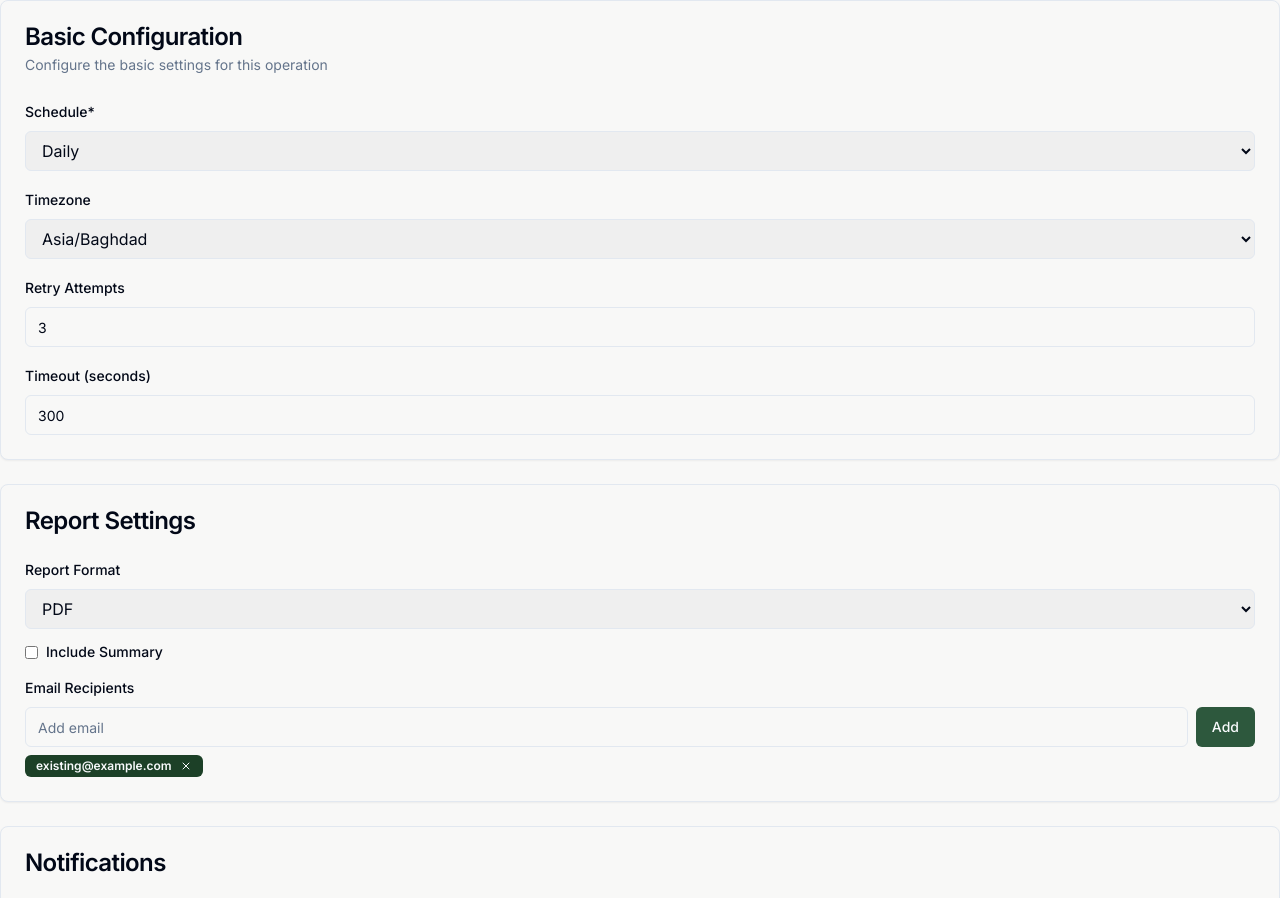
Test: OperationConfiguration › User Interactions › adds and removes email recipients
The width and height of the screenshot is (1280, 898).
Note: Add new email
Type "new@example.com" into the field labelled "Add email" at (606, 727), box [25,707,1188,747]
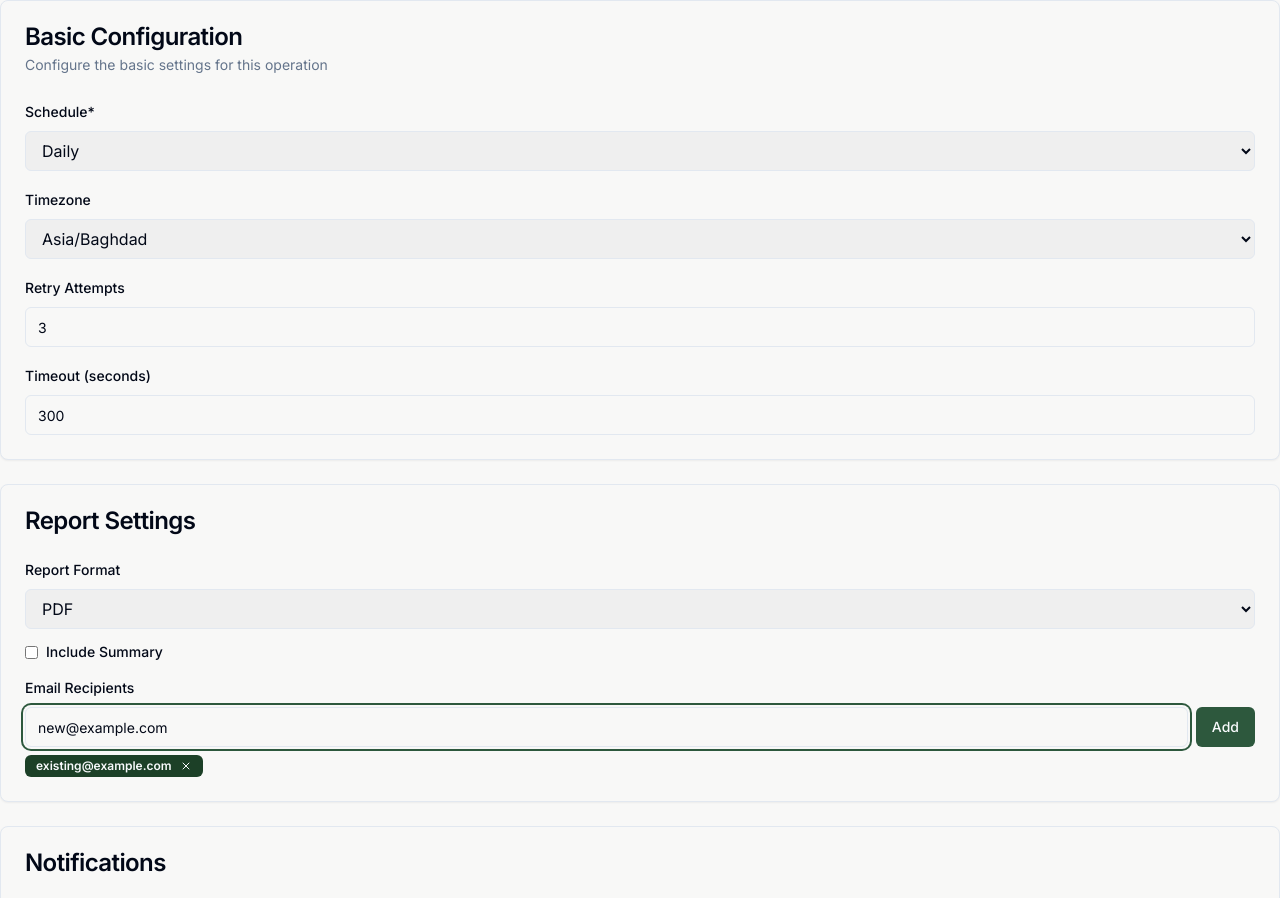
Press Enter
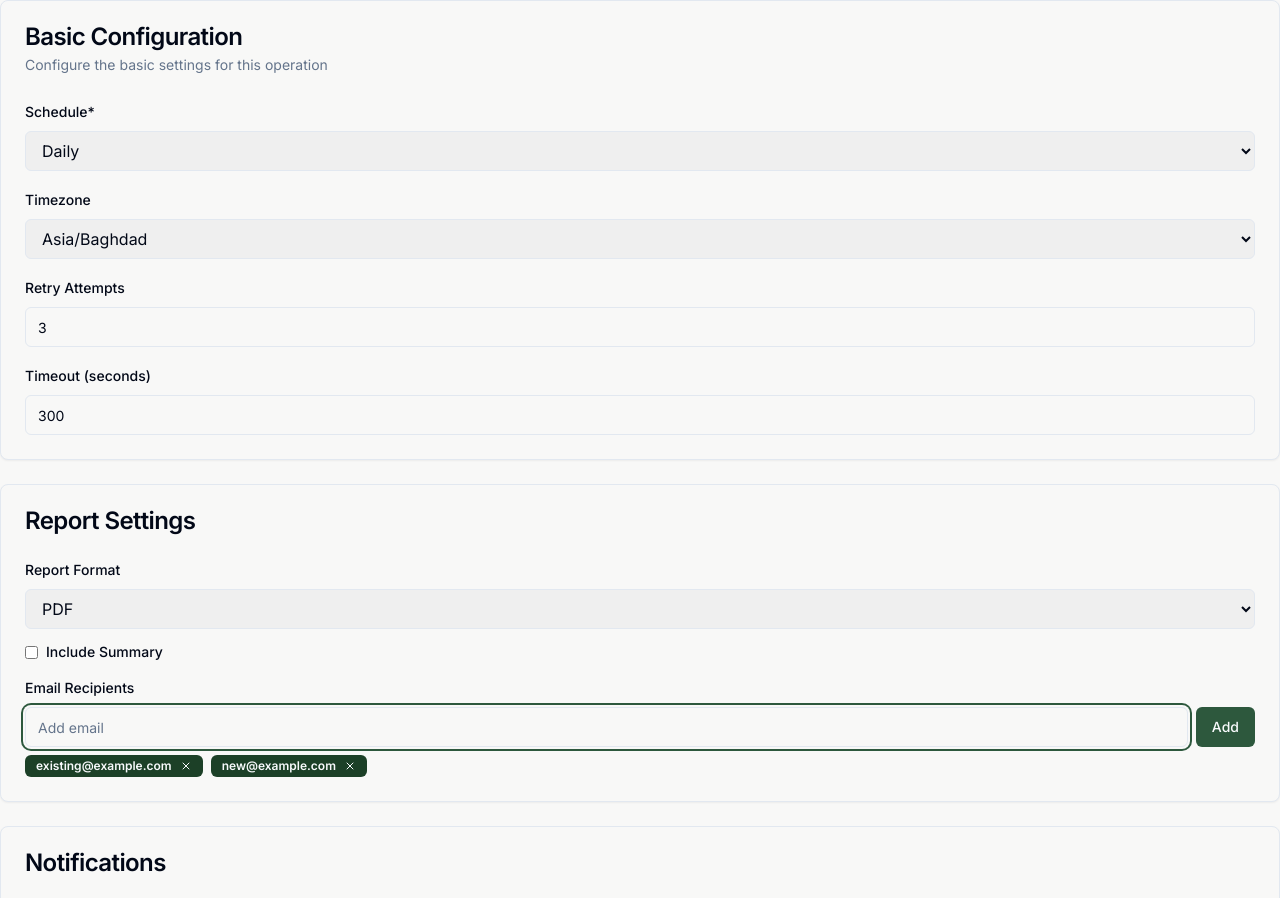
Expected: the text "new@example.com" is shown, [211,755,367,777]
Note: Remove email
Click the button with test id "remove-email-new@example.com" at (350, 766), box [344,760,356,772]
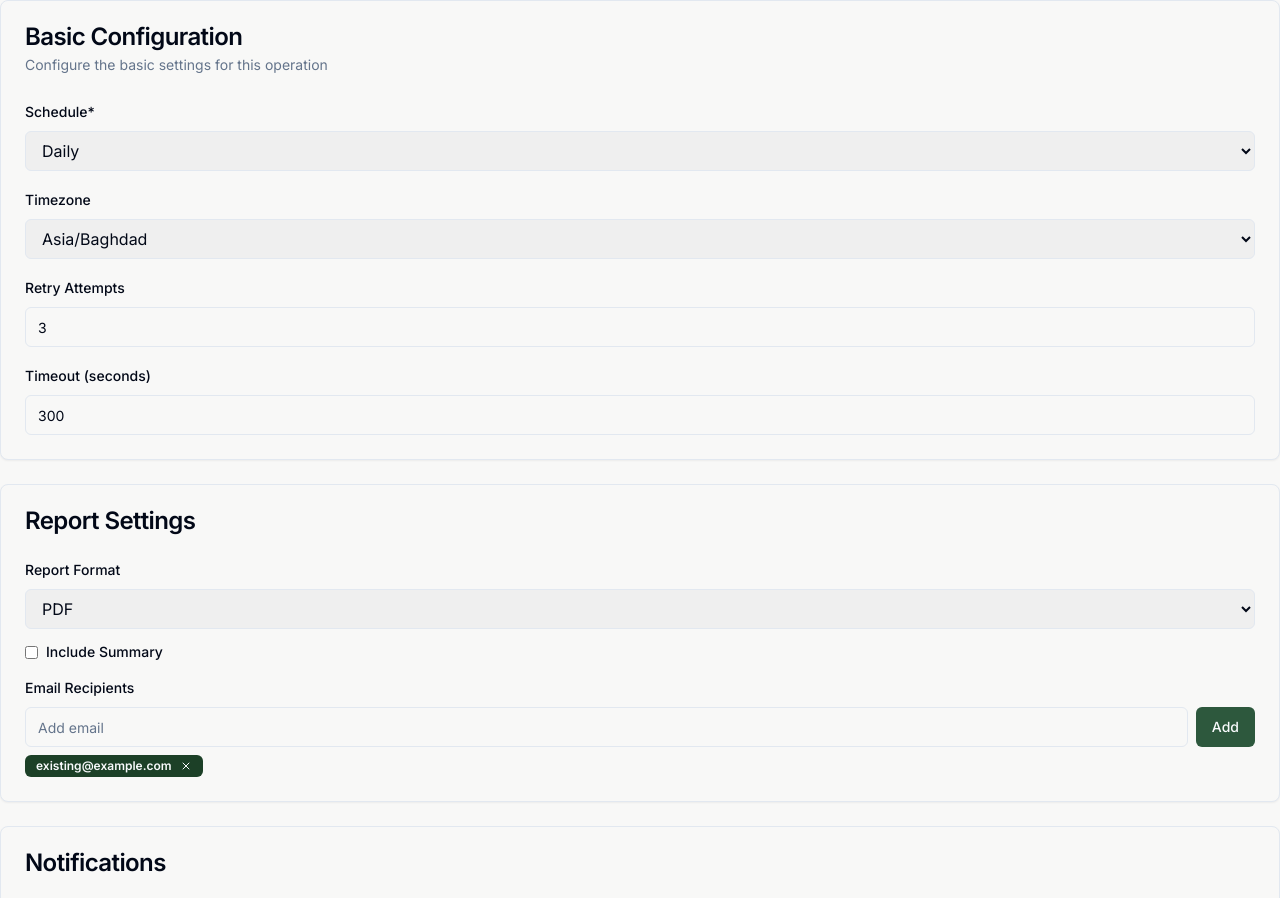
Expected: the text "new@example.com" is gone
